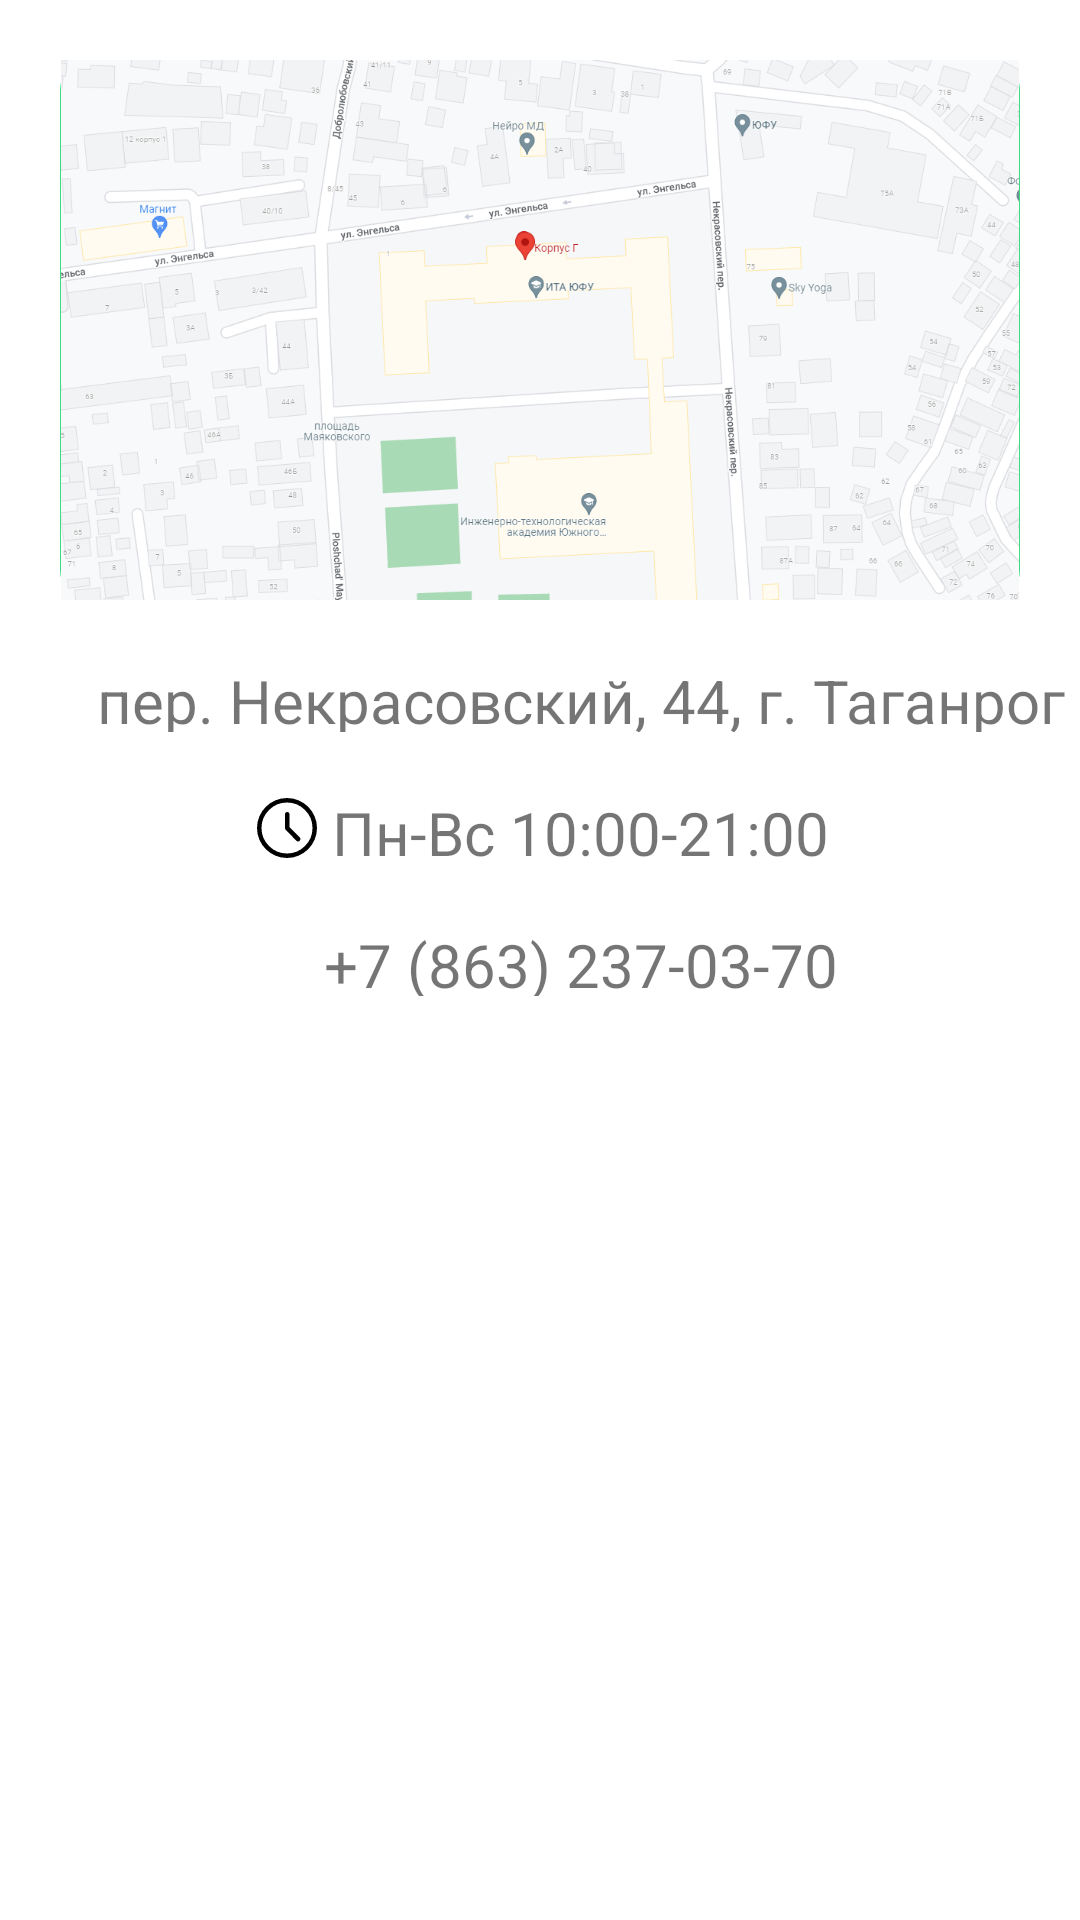

Screen size 1080x1920. Icon name, then its center in pixels as (x,y):
schedule: (287,828)
